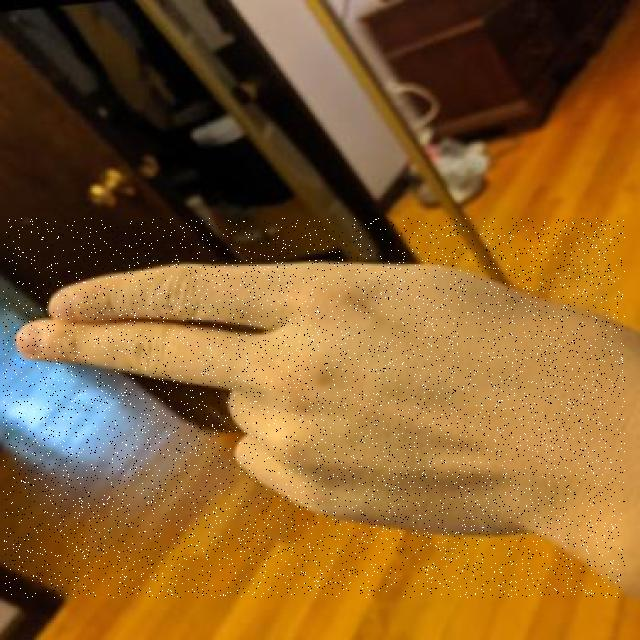H: (3, 218, 625, 598)
